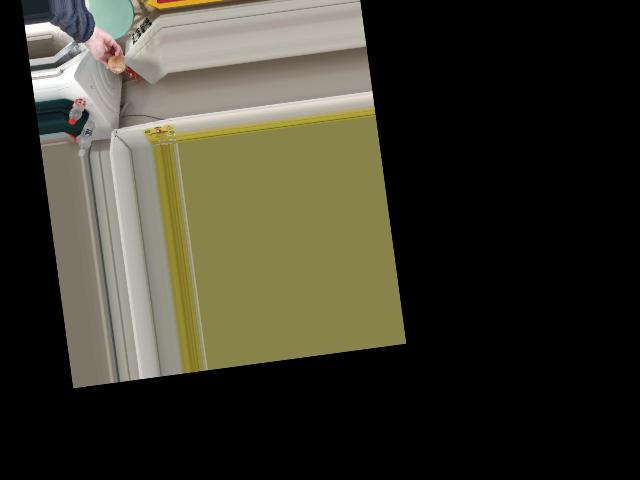sweet_potato: (106, 52, 124, 73)
